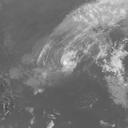cyclone: (41, 37, 85, 72)
